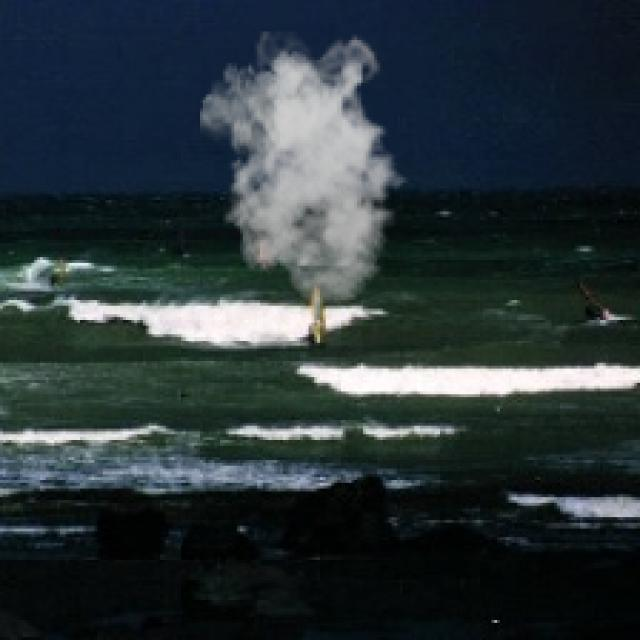smoke: (200, 31, 417, 306)
